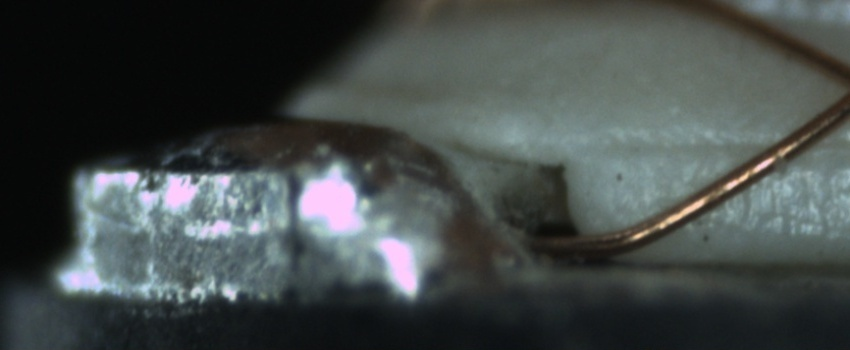DL: (604, 112, 850, 182)
